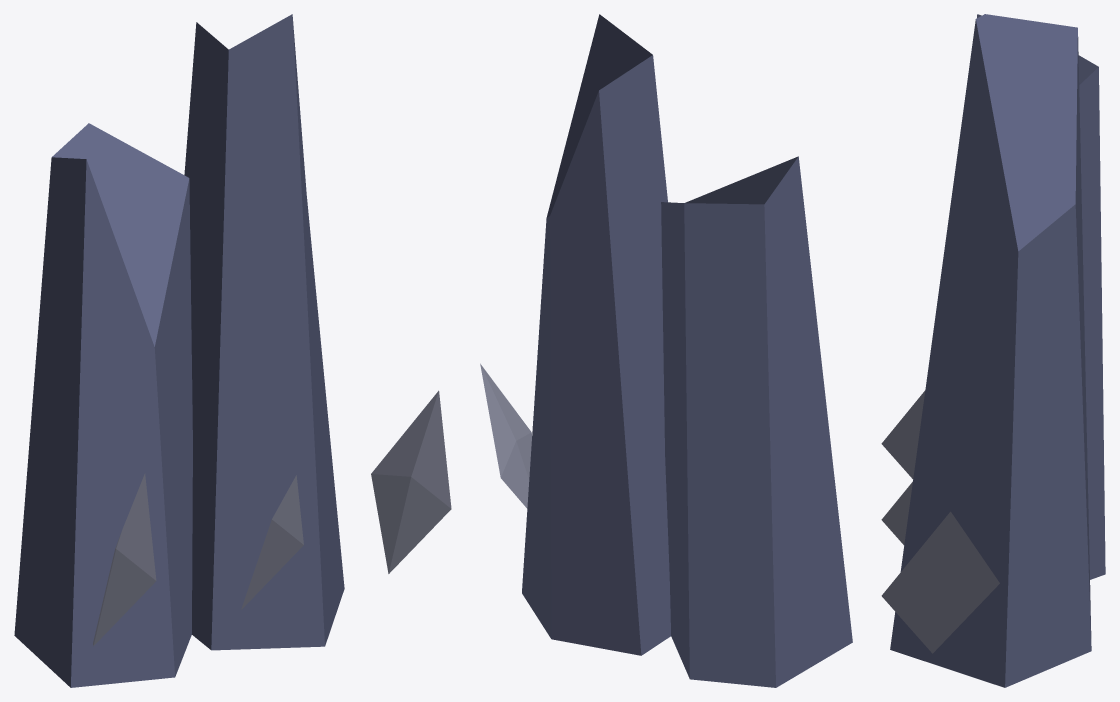
File: map-boundaries-v5__highland_05.glb
3 views of the same model, side by side, from view 1: azimuth 30°, elevation 25°; view 2: azimuth 150°, elevation 25°; view 3: azimuth 270°, elevation 25° (orthographic). The views are drawn at different scales.
Parts seen in each view (by area): view 1: highland_05; view 2: highland_05; view 3: highland_05.
Boxes of the visible parts, x1,y1,x2,y2 form: highland_05: (14,14,451,687); highland_05: (480,14,852,687); highland_05: (881,14,1105,687).
Bounding box in the file's own units: 1.27 × 1.95 × 0.6227.
